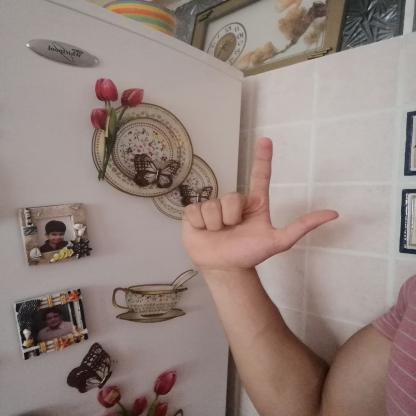LAAM: (168, 129, 349, 283)
